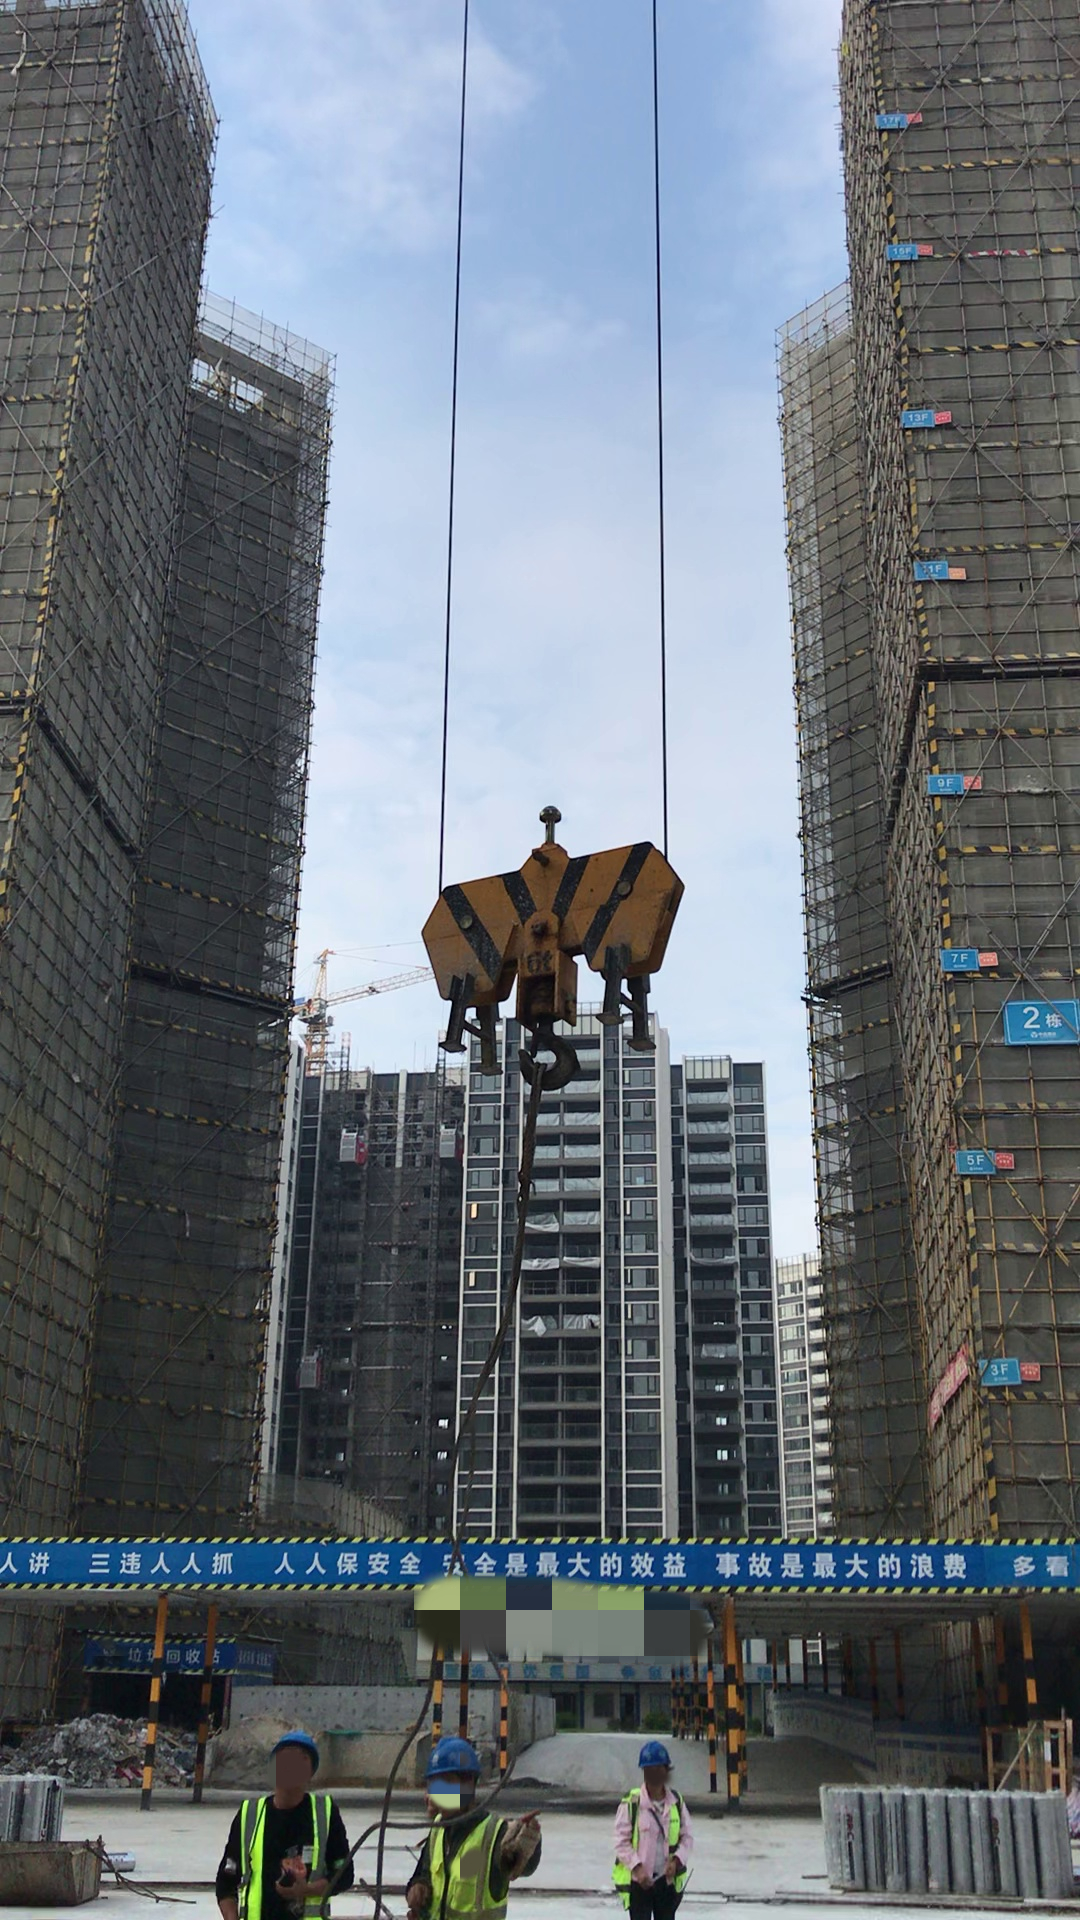helmet: (414, 1733, 484, 1776), (635, 1740, 689, 1786), (267, 1723, 325, 1761)
hook: (406, 808, 685, 1093)
hopper: (1, 1834, 100, 1905)
person: (218, 1730, 362, 1920), (391, 1730, 517, 1920), (593, 1729, 704, 1920)
slogan: (16, 1526, 1077, 1602)
vest: (235, 1791, 348, 1913), (421, 1797, 517, 1920)
